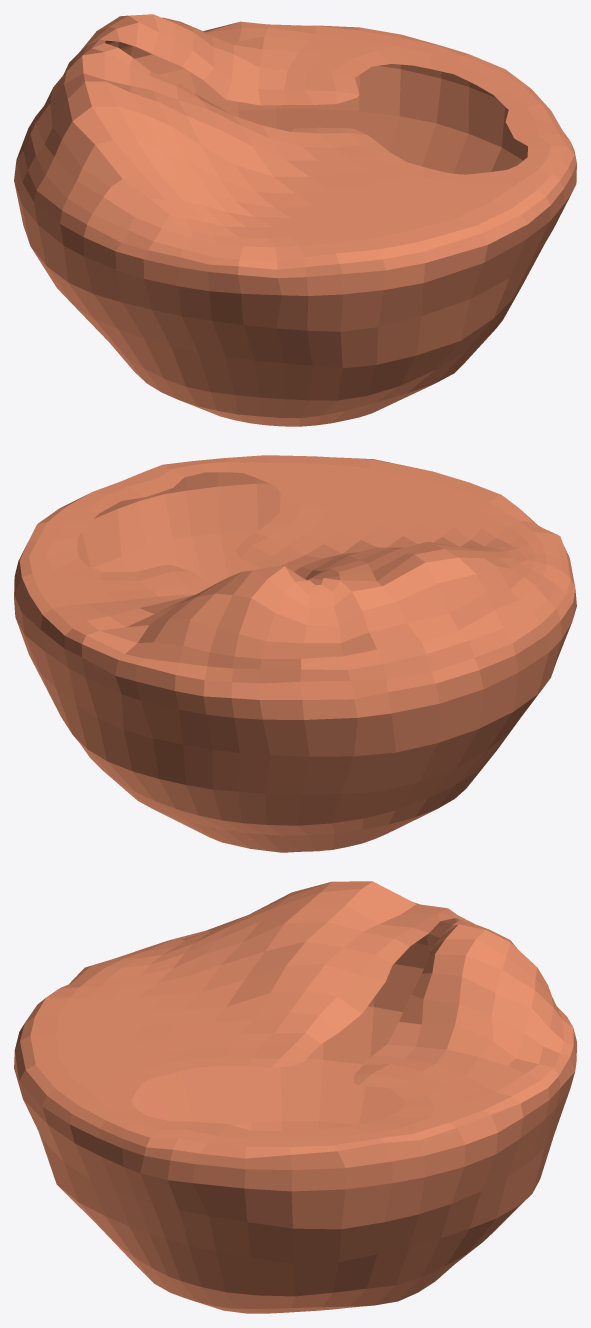
File: NewGroundFlat.fbx
3 views of the same model, one above another, from view 1: azimuth 30°, elevation 25°; view 2: azimuth 150°, elevation 25°; view 3: azimuth 270°, elevation 25° (orthographic).
Parts seen in each view (by area): view 1: GroundShrinkWrapApplied; view 2: GroundShrinkWrapApplied; view 3: GroundShrinkWrapApplied.
Part boxes in pixels (x1,y1,x2,y2): GroundShrinkWrapApplied: [14, 14, 576, 426]; GroundShrinkWrapApplied: [14, 455, 576, 852]; GroundShrinkWrapApplied: [14, 881, 576, 1313].
Bounding box in the file's own units: 972 × 644 × 979.
